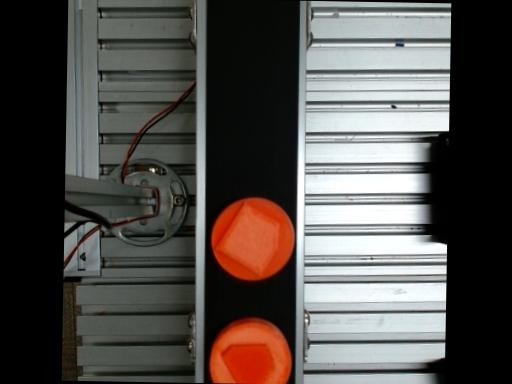Not_Square: (215, 201, 281, 276), (219, 344, 275, 384)
Orange_Waper: (210, 198, 293, 281), (208, 317, 291, 384)
